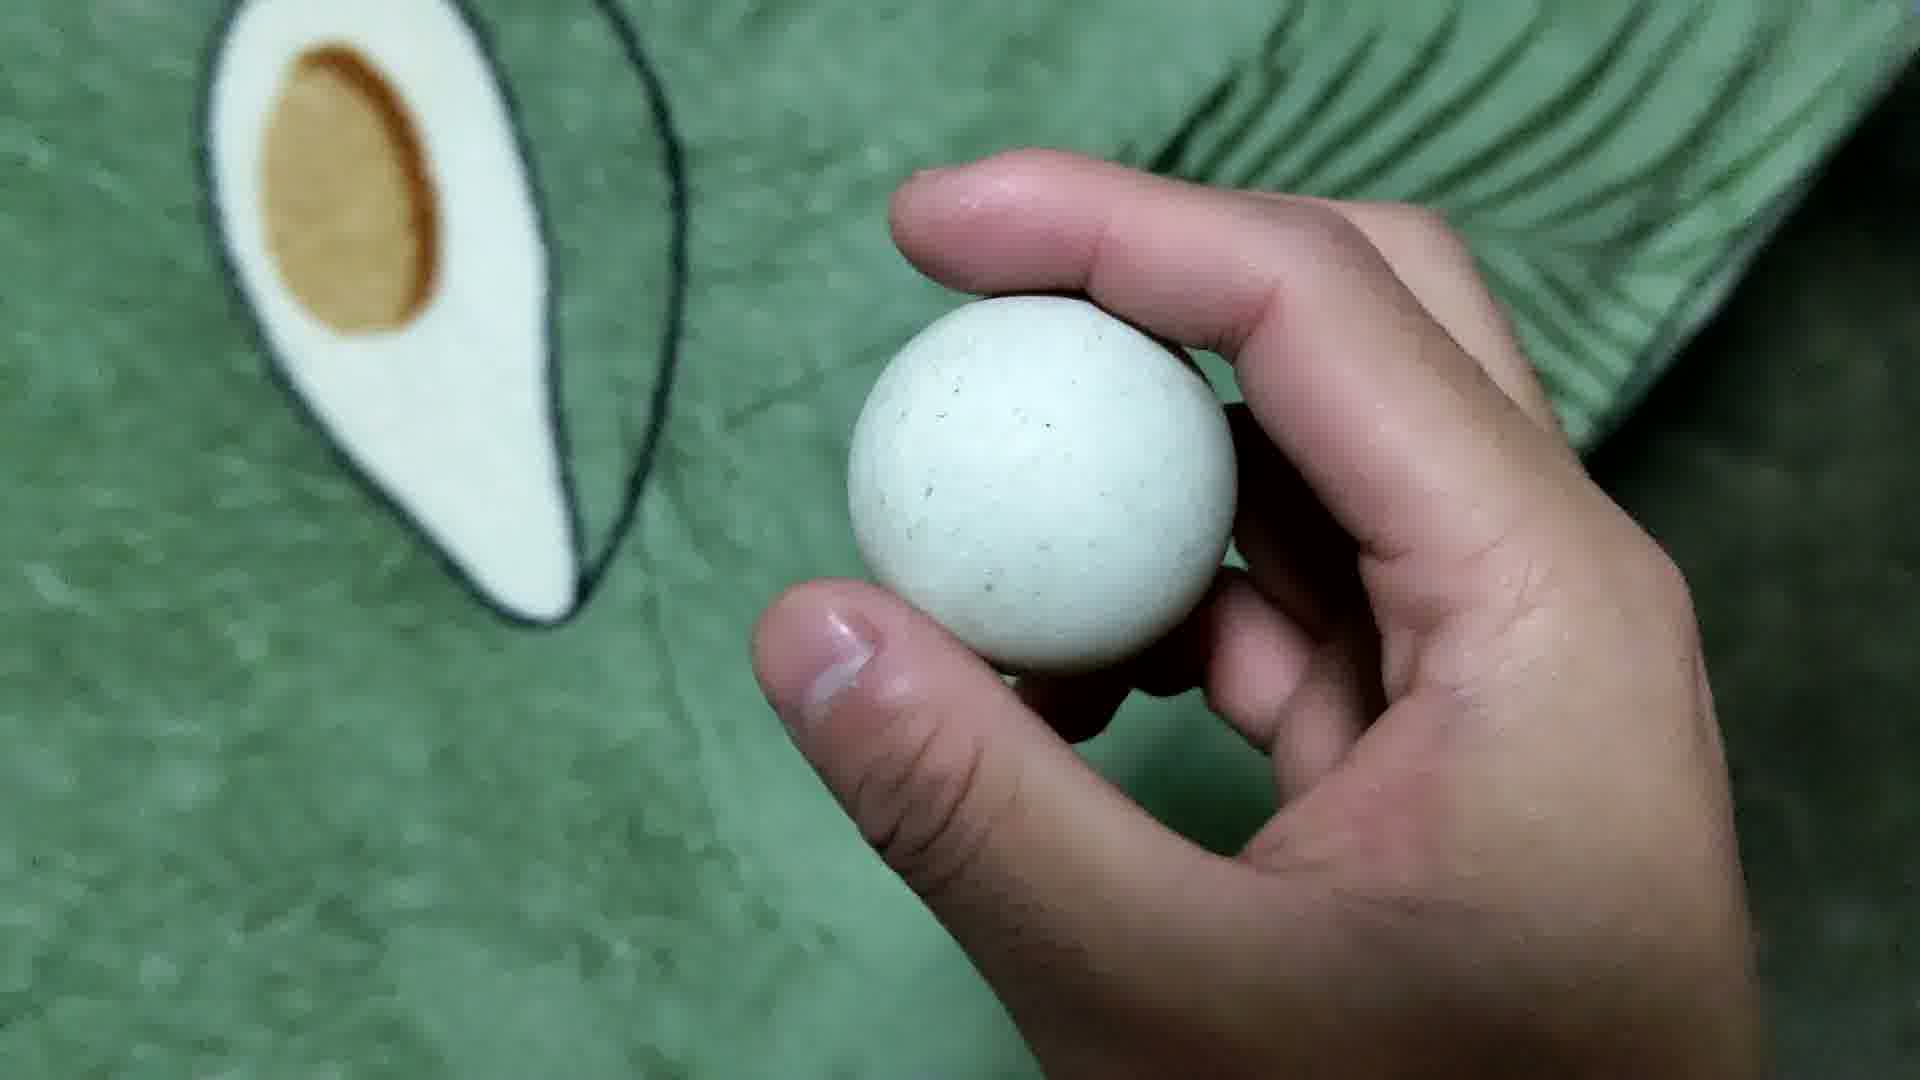Ball: (851, 295, 1238, 666)
